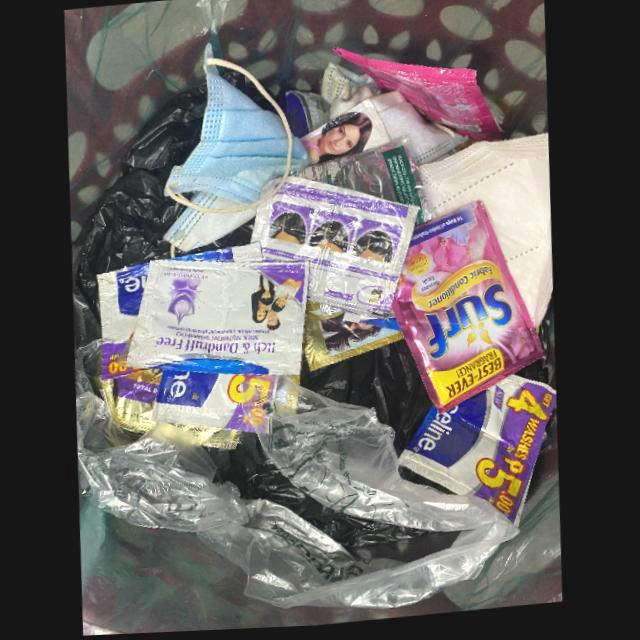plastic_sachet: (393, 206, 546, 418), (251, 179, 420, 324), (400, 380, 558, 533), (126, 262, 311, 379), (332, 50, 505, 147), (153, 372, 258, 435), (97, 264, 150, 382)
